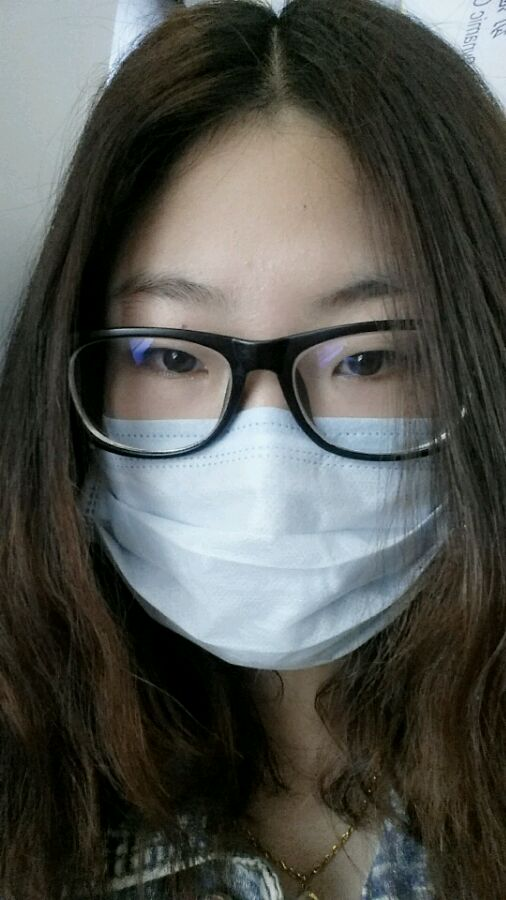face_mask: (96, 142, 456, 670)
